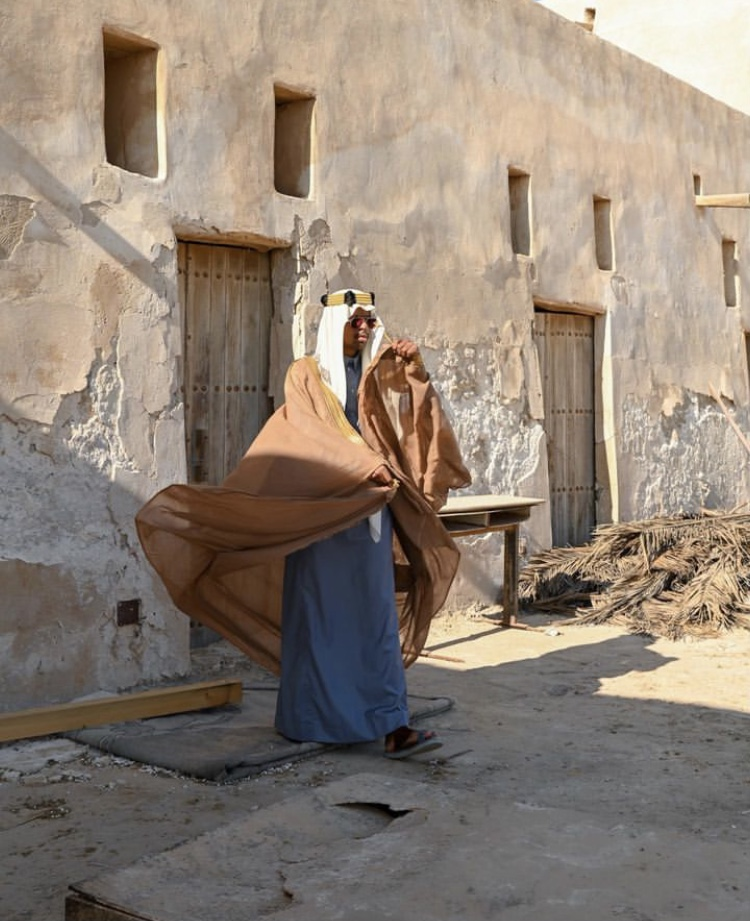Saudi_Founding_Day: (133, 284, 476, 763)
